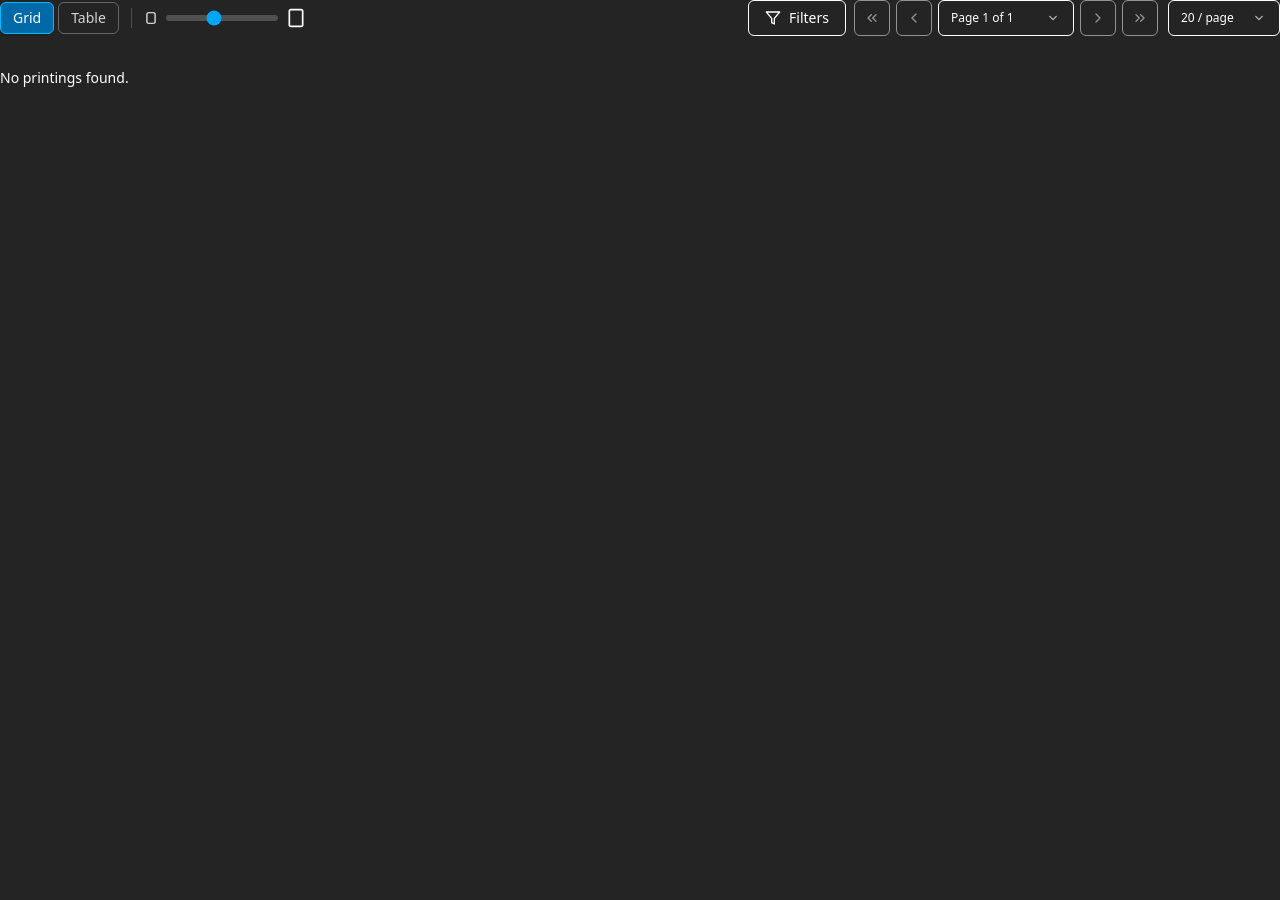
Test: CardsPage filter wiring › renders filter buttons for Type, Arena, Aspects, and Traits in the expandable menu
Expected: the button "Type" is not shown
Click Filters to expand menu
Step 1. Click the button "Filters" → (797, 18), box [748,0,846,36]
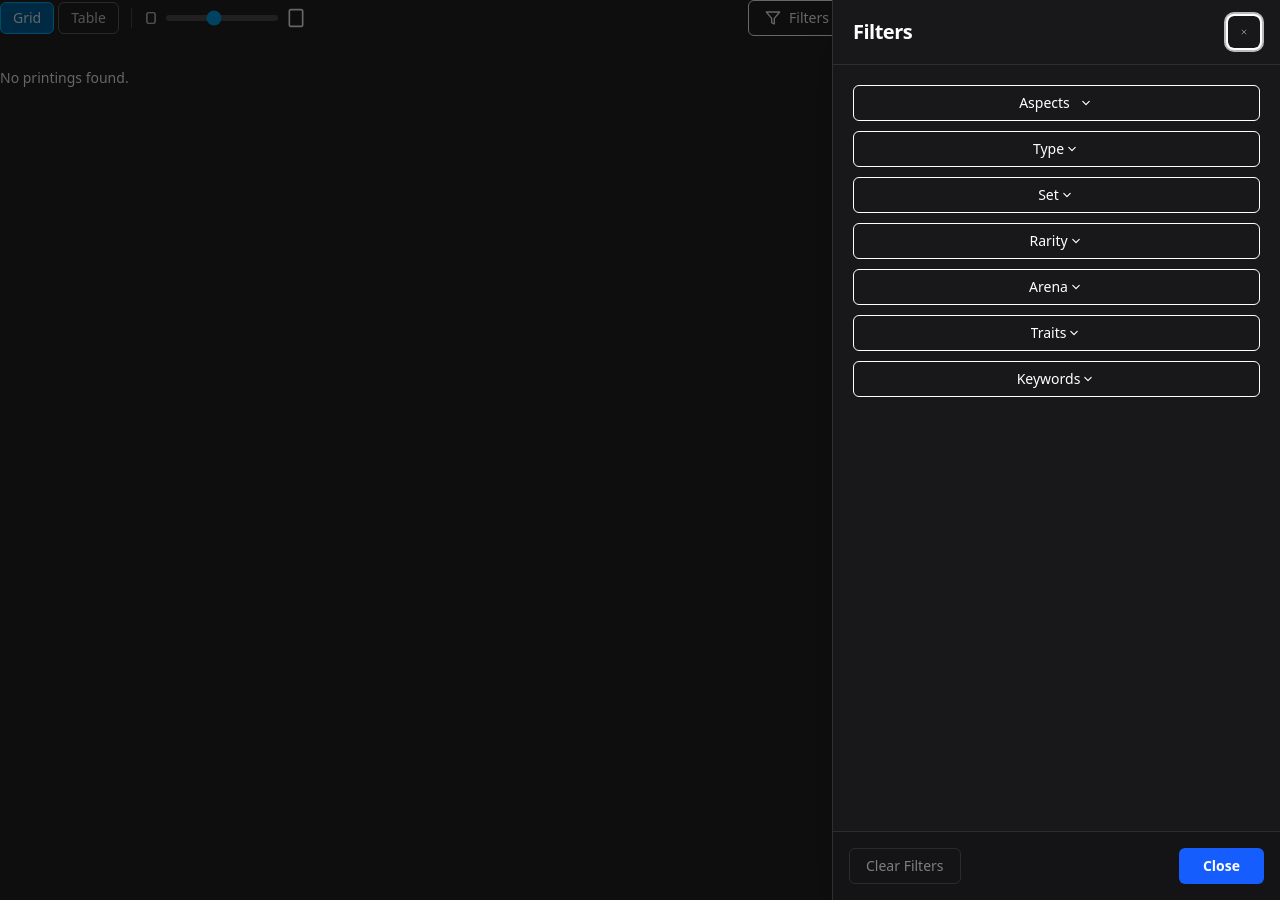
Expected: the button "Filters" is expanded, [748,0,846,36]
Expected: the button "Type" is shown, [853,131,1260,167]
Expected: the button "Arena" is shown, [853,269,1260,305]
